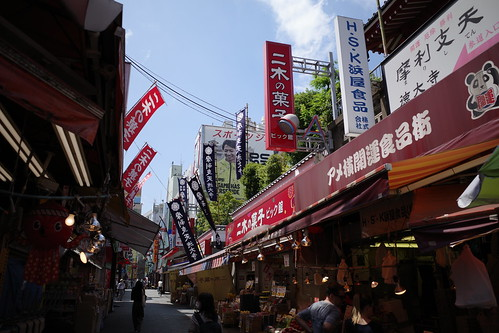building: (226, 36, 499, 312), (1, 1, 117, 329)
flag: (110, 89, 167, 156), (168, 199, 202, 263), (185, 180, 220, 236), (121, 144, 163, 187), (227, 107, 249, 172), (201, 146, 220, 200)
sign: (386, 2, 499, 114), (329, 13, 382, 135), (264, 37, 296, 154)
sky: (123, 1, 264, 129)
